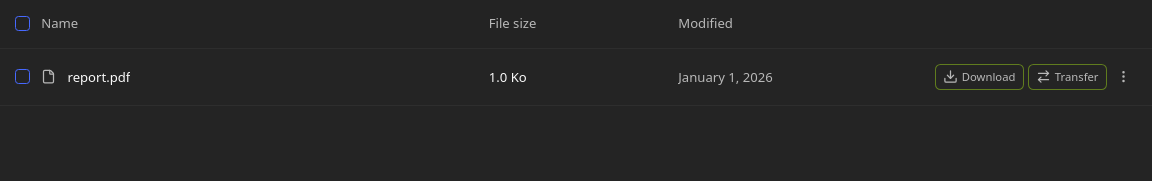
FileGrid list view row actions › shows Rename and Delete inside the overflow menu
Click the button named "more actions" at (1124, 77), box [1111, 64, 1137, 90]
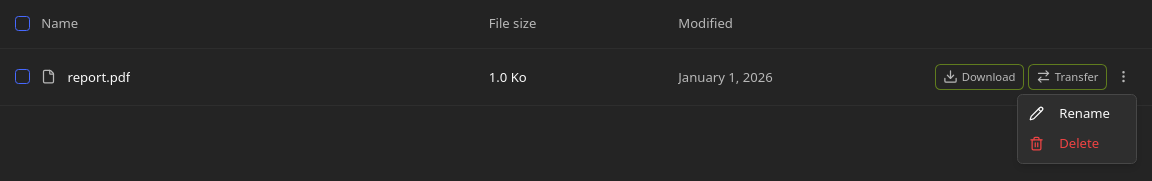
Result: the menu item "Rename" is shown at [1029, 104, 1110, 122]
Result: the menu item "Delete" is shown at [1029, 134, 1099, 152]
